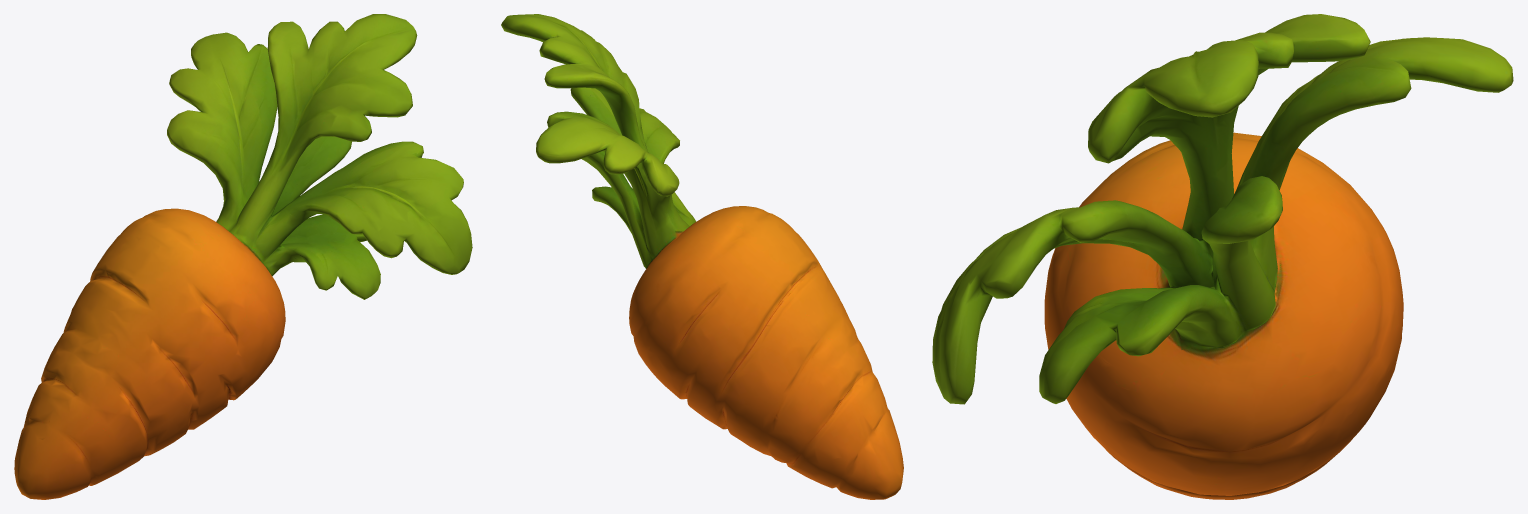
The model's file is carrot.glb.
3 views of the same model, side by side, from view 1: azimuth 30°, elevation 25°; view 2: azimuth 150°, elevation 25°; view 3: azimuth 270°, elevation 25° (orthographic). The views are drawn at different scales.
Visible parts, largest first — view 1: tripo_node_56bac843-88fc-44b6-acbe-2179025e25a4; view 2: tripo_node_56bac843-88fc-44b6-acbe-2179025e25a4; view 3: tripo_node_56bac843-88fc-44b6-acbe-2179025e25a4.
Part boxes in pixels (bbox=[...]): tripo_node_56bac843-88fc-44b6-acbe-2179025e25a4: bbox=[14, 14, 472, 499]; tripo_node_56bac843-88fc-44b6-acbe-2179025e25a4: bbox=[501, 14, 903, 499]; tripo_node_56bac843-88fc-44b6-acbe-2179025e25a4: bbox=[932, 14, 1513, 499].
Size of the model in its own units: 1 by 0.956 by 0.7185.
1 material, 1 textured.
